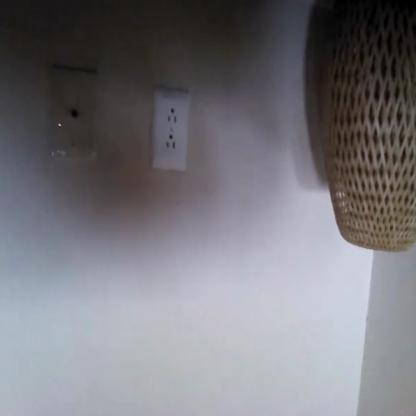OUTLET: (152, 91, 188, 170)
